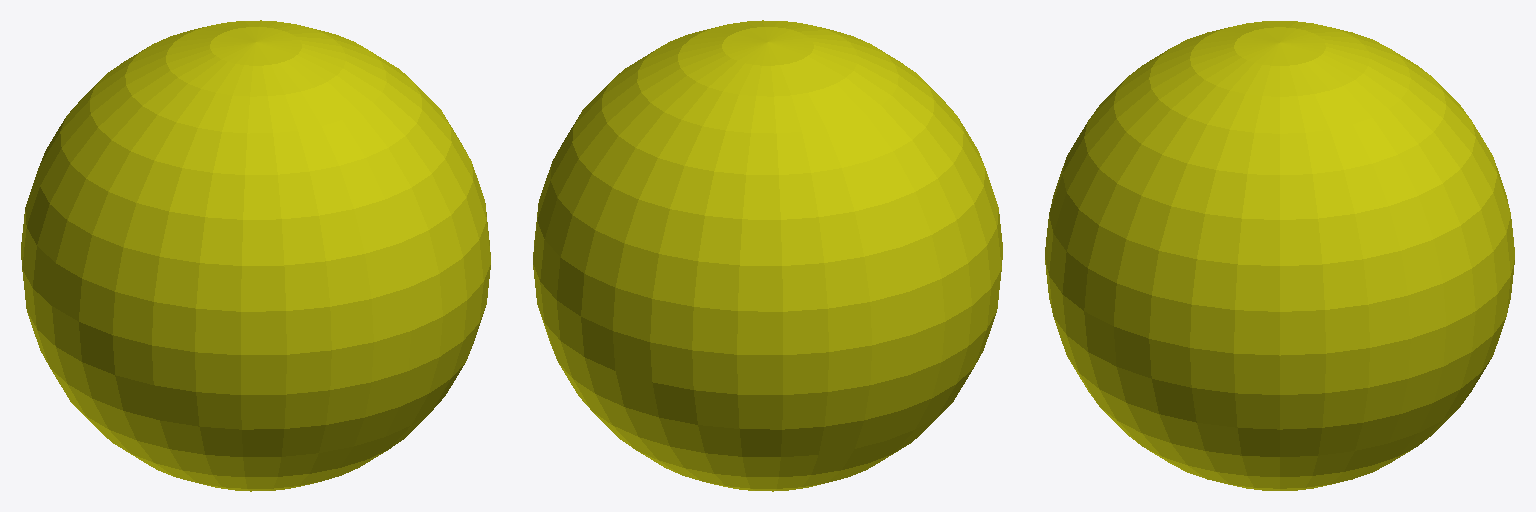
robot.urdf — Goal:
<robot
  name="Goal" version="1.0">

  <!-- Robot  -->

  <!-- Base link -->
  <link
    name="Goal">
    <inertial>
      <mass value="0.0" />
      <inertia ixx = "0" ixy = "0" ixz = "0"
               iyx = "0" iyy = "0" iyz = "0"
               izx = "0" izy = "0" izz = "0" />
    </inertial>
    <visual>
      <origin rpy="0 0 0" xyz="0 0 0"/>
      <geometry>
         <sphere radius="0.1"/>
      </geometry>
      <material name="blockmat1">
        <color rgba="0.8 0.8 0.1 0.5"/>
      </material>
    </visual>
  </link>

</robot>

--- What the picture shows (computed from the rendered views, not written in the file) ---
3 views of the same robot in one strip: view 1: azimuth 30°, elevation 25°; view 2: azimuth 150°, elevation 25°; view 3: azimuth 270°, elevation 25° (orthographic).
Robot: Goal — 1 links, 0 joints (none); root link Goal; default pose: all joints at 0.
Links seen in each view (by area): view 1: Goal; view 2: Goal; view 3: Goal.
Link boxes in pixels (box(x1,y1,x2,y2)): Goal: box(21, 20, 490, 491); Goal: box(533, 20, 1002, 491); Goal: box(1045, 21, 1514, 490).
Bounding box of the posed robot: 0.2 × 0.2 × 0.2 m (x, y, z).
Geometry: primitives only (box / cylinder / sphere), no mesh files.